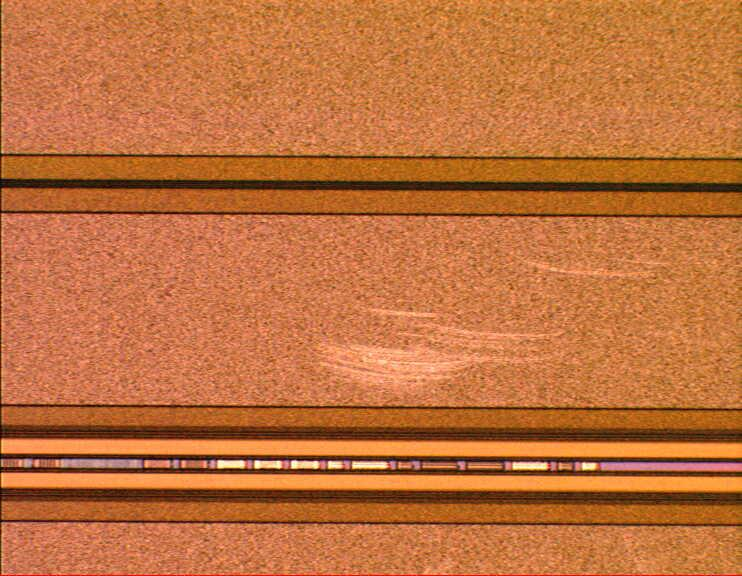SCRATCH: (290, 236, 680, 396)
